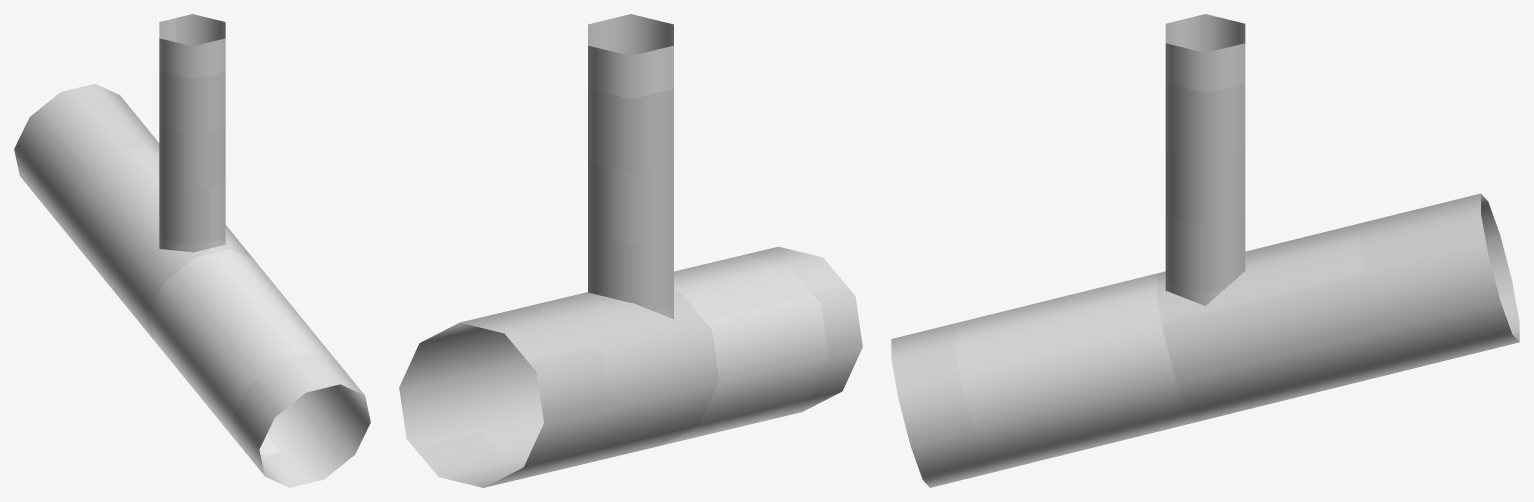
File: trusssignalarm_sloped12_c8.obj
3 views of the same model, side by side, from view 1: azimuth 30°, elevation 25°; view 2: azimuth 150°, elevation 25°; view 3: azimuth 270°, elevation 25° (orthographic). The views are drawn at different scales.
Visible parts, largest first — view 1: trusssignalarm_sloped12_c8; view 2: trusssignalarm_sloped12_c8; view 3: trusssignalarm_sloped12_c8.
Boxes of the visible parts, left/top/right/bottom form: trusssignalarm_sloped12_c8: left=14, top=14, right=370, bottom=487; trusssignalarm_sloped12_c8: left=399, top=14, right=862, bottom=487; trusssignalarm_sloped12_c8: left=891, top=14, right=1519, bottom=487.
Bounding box in the file's own units: 0.2625 × 0.8317 × 1.07.
